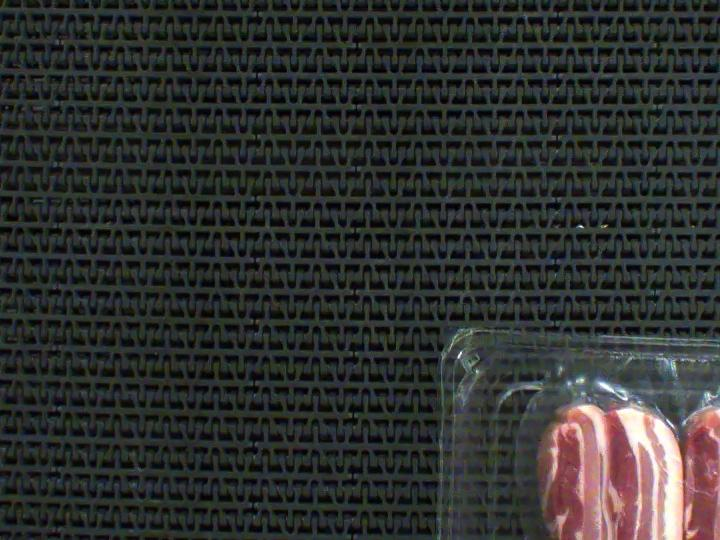unsealed: (536, 336, 720, 540)
